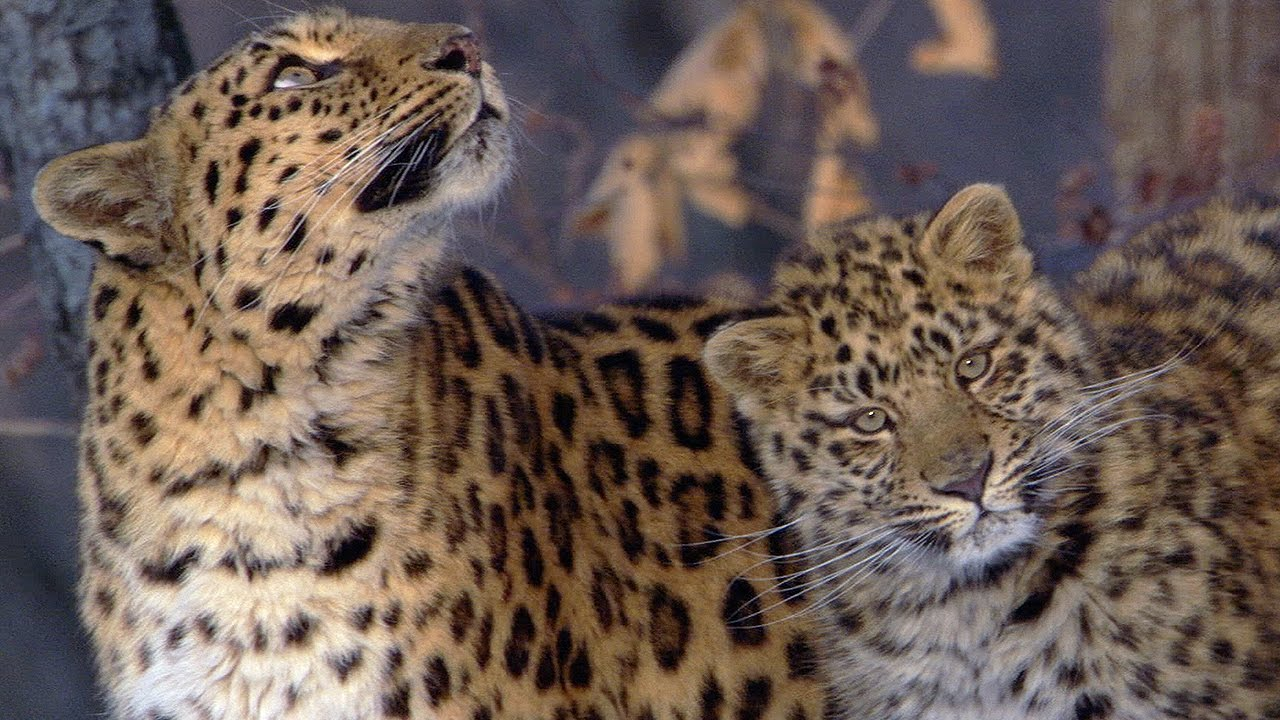amur_leopard: (12, 1, 611, 399), (674, 182, 1144, 573)
